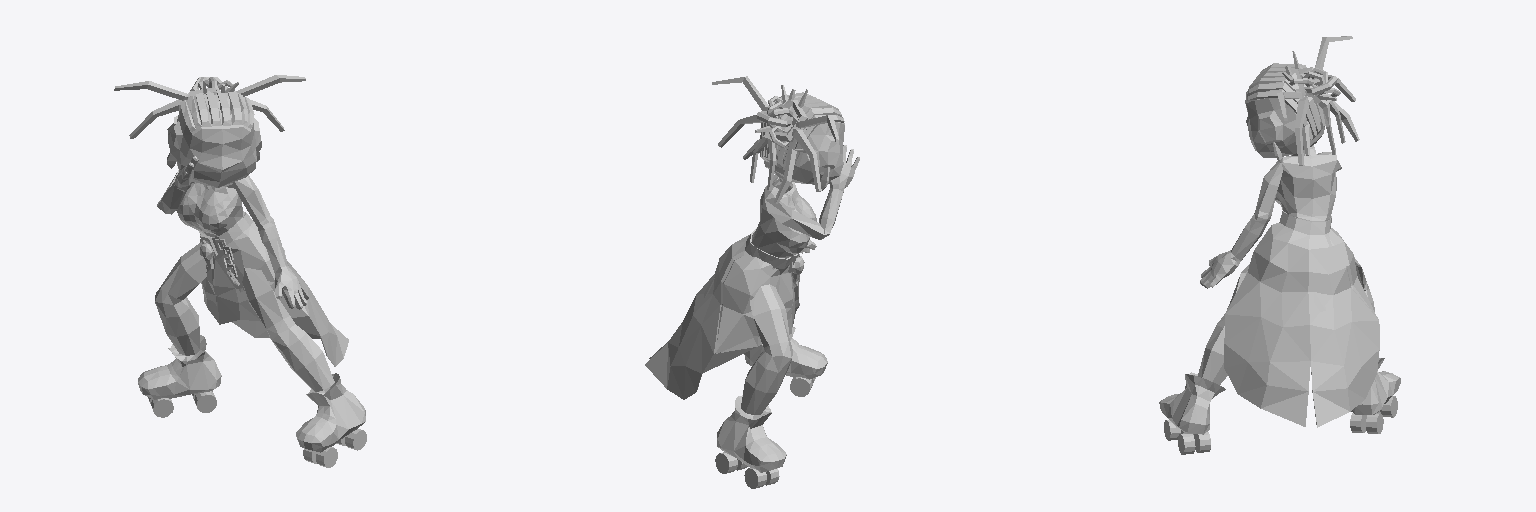
Rendered from bruja_000016.obj.
The picture shows the model from 3 angles: view 1: azimuth 30°, elevation 25°; view 2: azimuth 150°, elevation 25°; view 3: azimuth 270°, elevation 25°; orthographic projection.
Visible parts, largest first — view 1: Bruja_Plane.001; view 2: Bruja_Plane.001; view 3: Bruja_Plane.001.
Boxes of the visible parts, <box> form: Bruja_Plane.001: <box>114,75,366,467</box>; Bruja_Plane.001: <box>645,76,859,488</box>; Bruja_Plane.001: <box>1159,36,1400,454</box>.
Size of the model in its own units: 9.41 by 15.44 by 9.24.